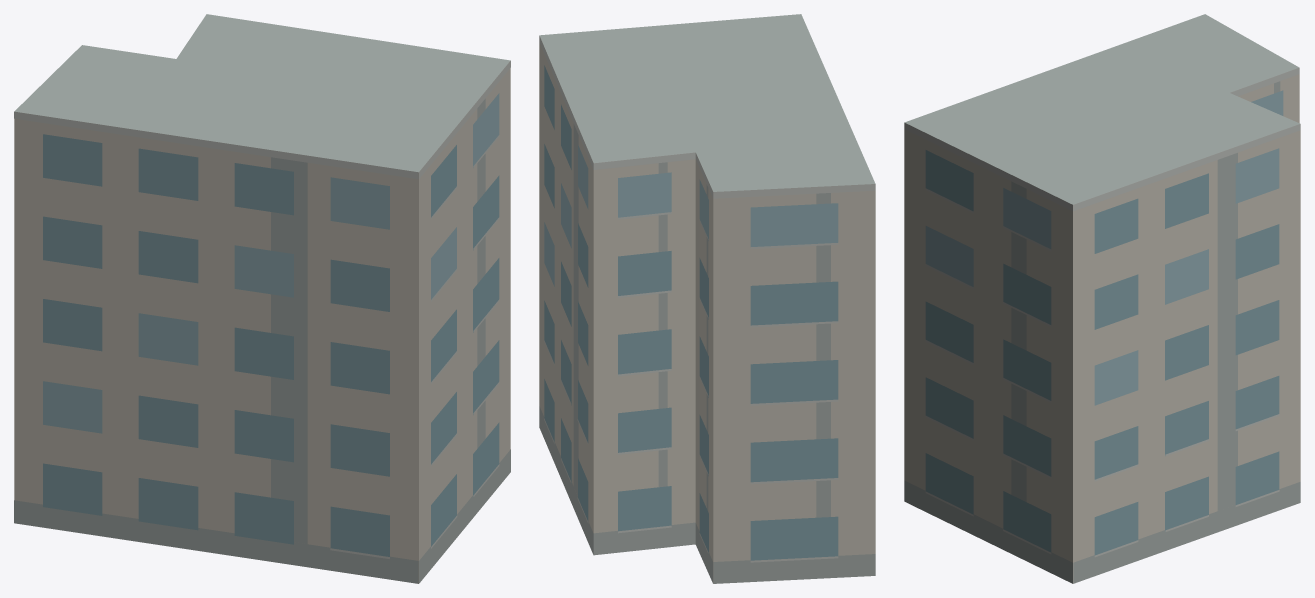
Rendered from survey-upis-32786472.glb.
The picture shows the model from 3 angles, left to right: view 1: azimuth 30°, elevation 25°; view 2: azimuth 150°, elevation 25°; view 3: azimuth 270°, elevation 25°; orthographic projection. The views are drawn at different scales.
Parts seen in each view (by area): view 1: survey-upis-32786472.tmp; view 2: survey-upis-32786472.tmp; view 3: survey-upis-32786472.tmp.
Boxes of the visible parts, box(x1,y1,x2,y2) form: survey-upis-32786472.tmp: box(14, 14, 510, 583); survey-upis-32786472.tmp: box(539, 14, 875, 583); survey-upis-32786472.tmp: box(904, 14, 1300, 583).
Size of the model in its own units: 15.24 by 14.1 by 13.37.
